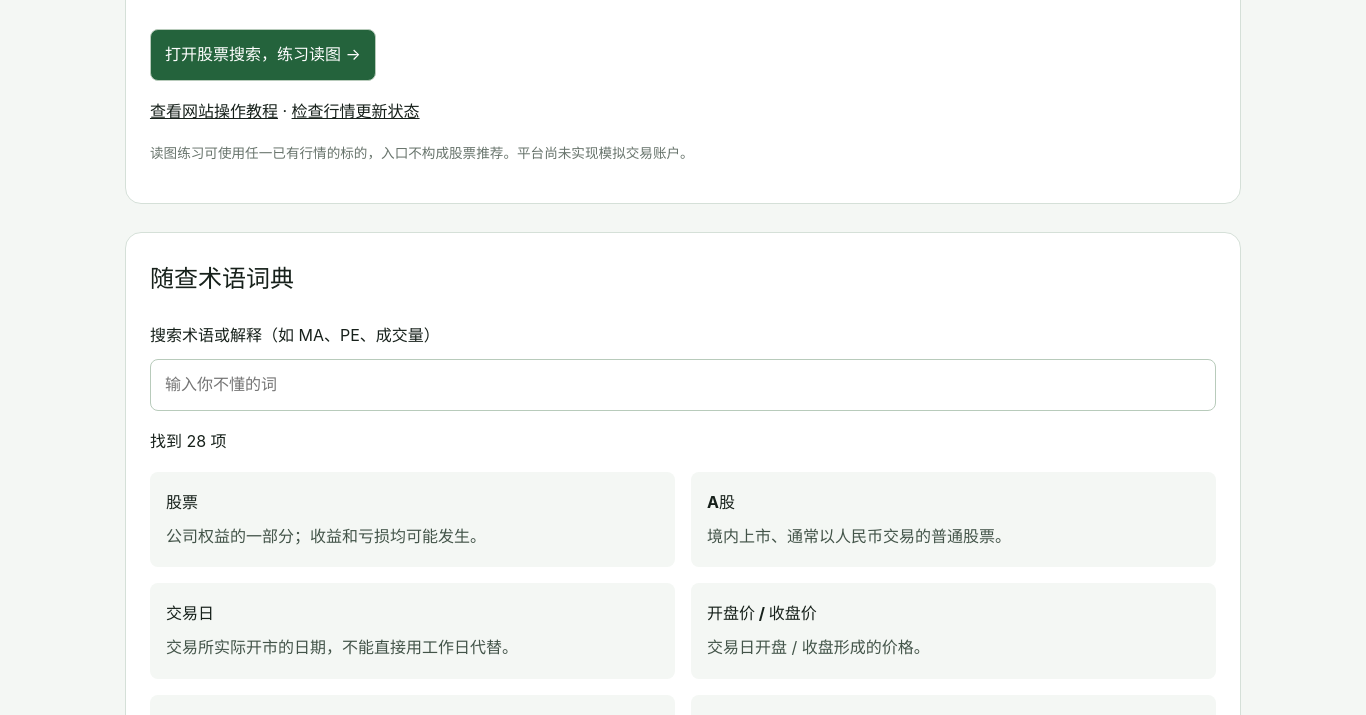
Scenario: stock learning center › filters terms case-insensitively and recovers from no matches
(page scrolled)
Type "pe" into the search field with id "term-search" at (683, 385), box [150,359,1216,410]
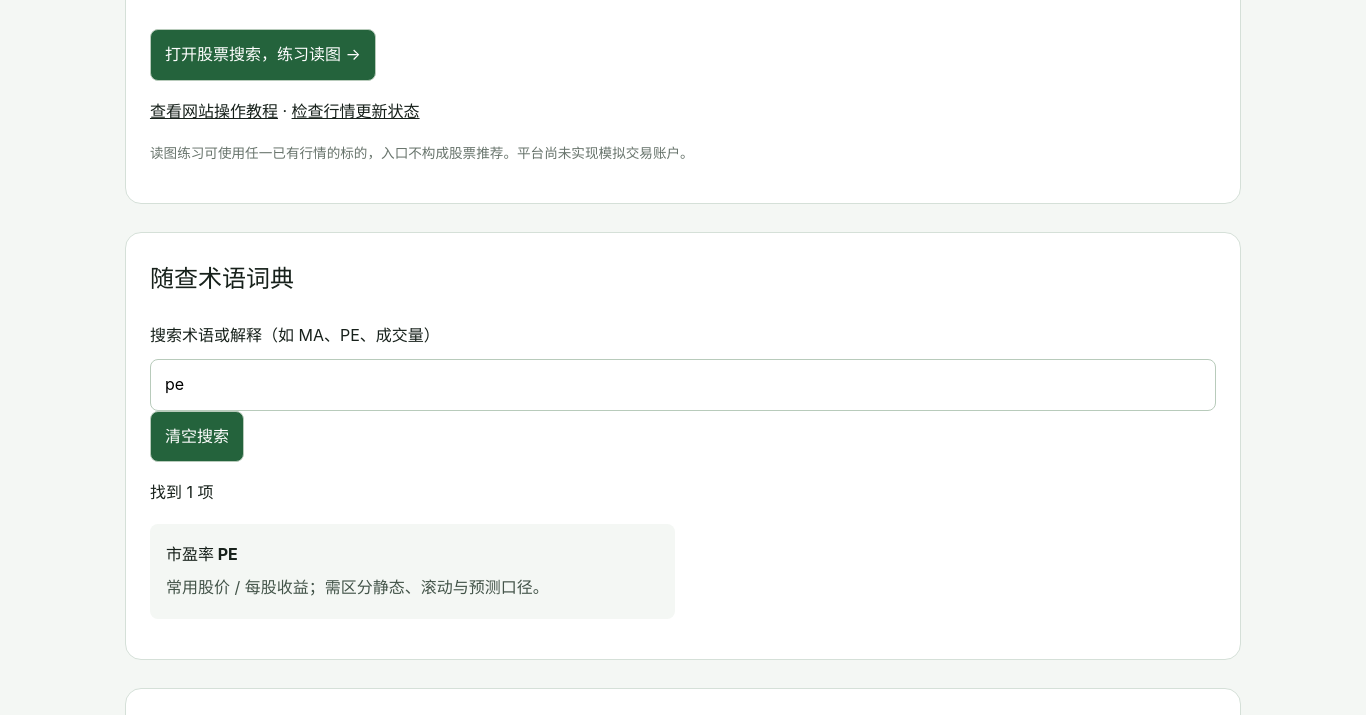
Expected: the text "市盈率 PE" is shown, [166,544,238,564]
Replace the text in the search field with id "term-search" with "不存在的教学术语" at (683, 385), box [150,359,1216,410]
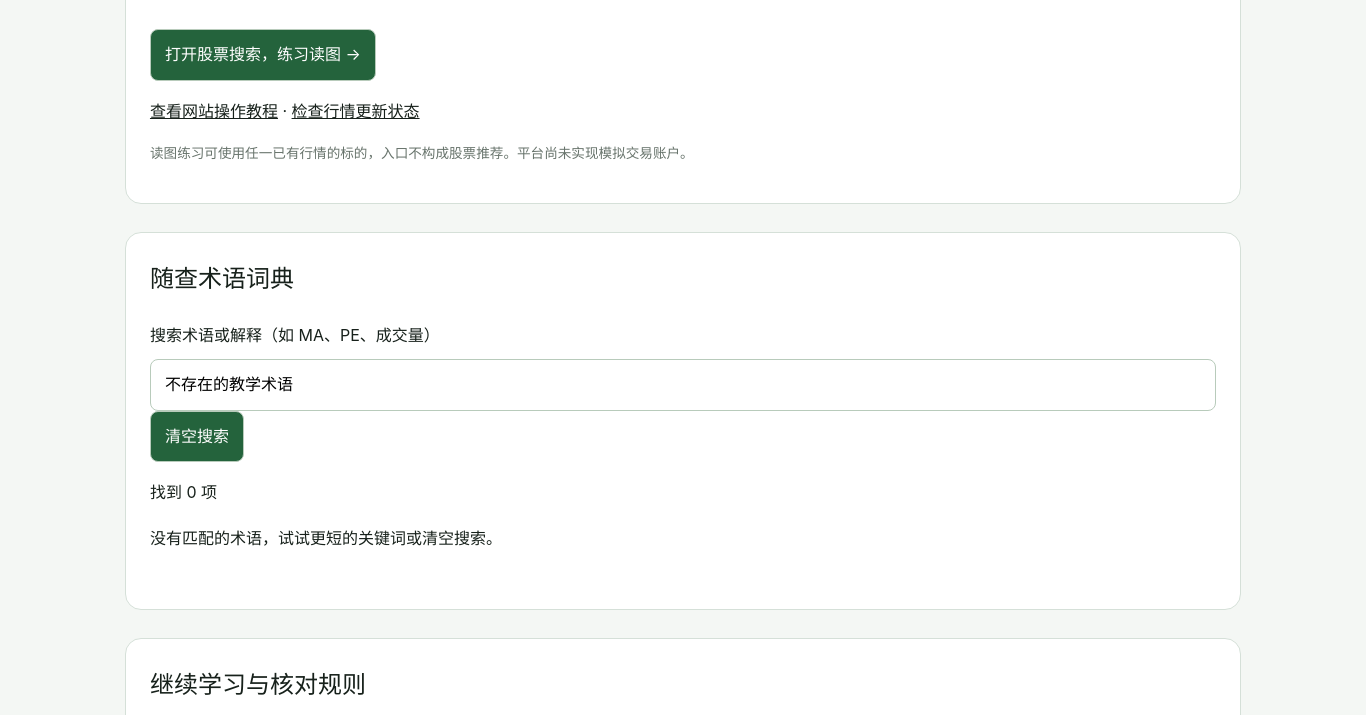
Expected: the element with id "glossary" shows "没有匹配", [150,528,502,548]
Click the button "清空搜索" at (197, 436), box [150,410,244,462]
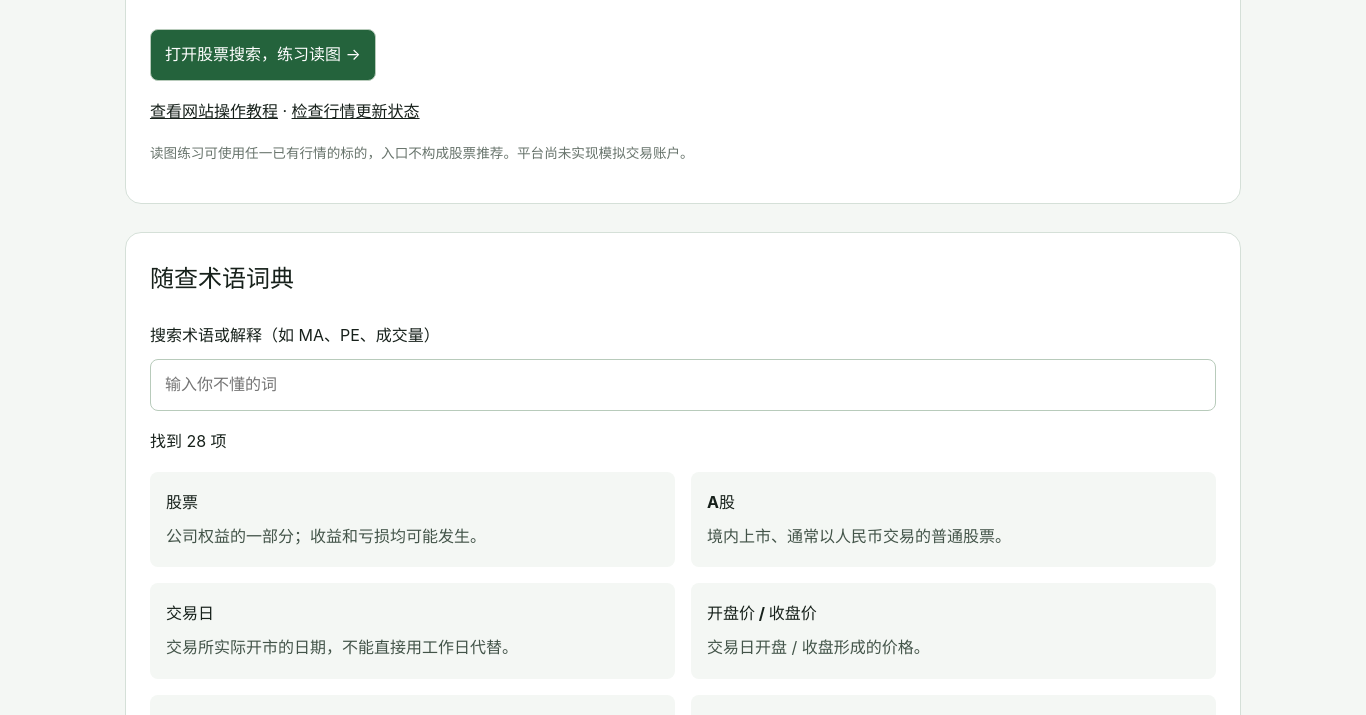
Expected: the search field with id "term-search" is empty, [150,359,1216,410]
